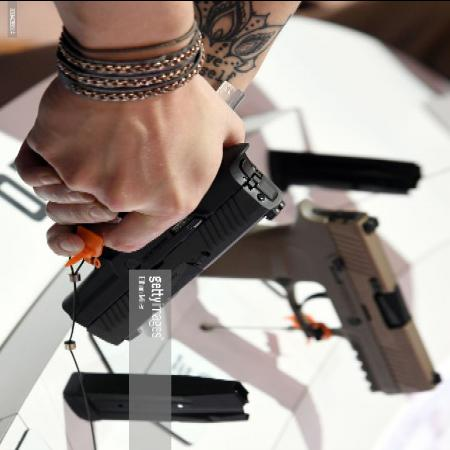Pistol: (59, 132, 289, 343), (204, 203, 445, 394)
